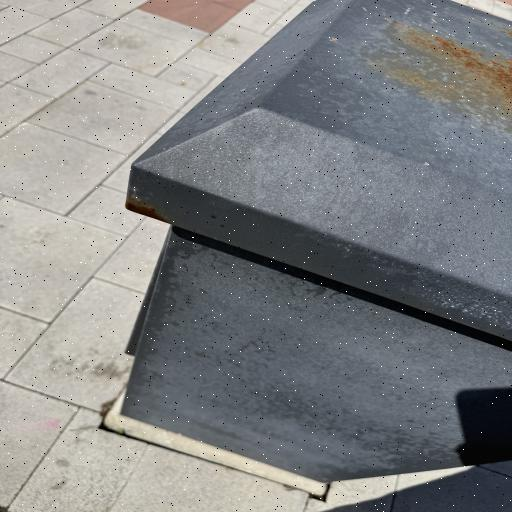Electrical Box: (121, 0, 512, 479)
